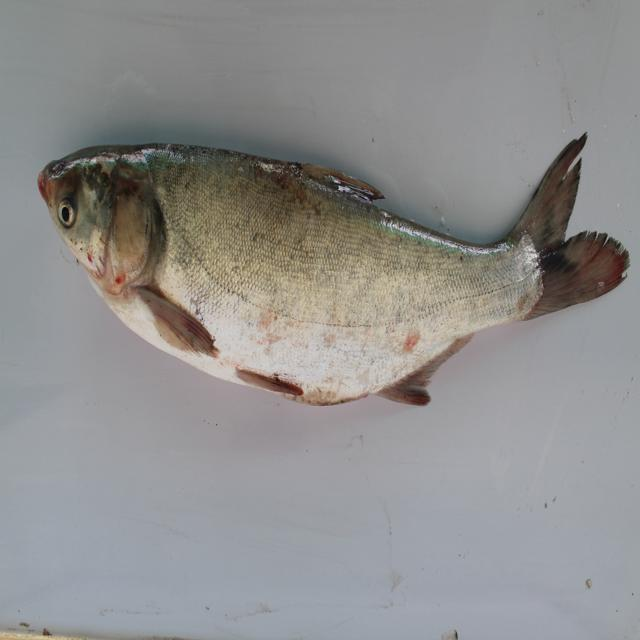SilverCarp: (41, 115, 621, 409)
